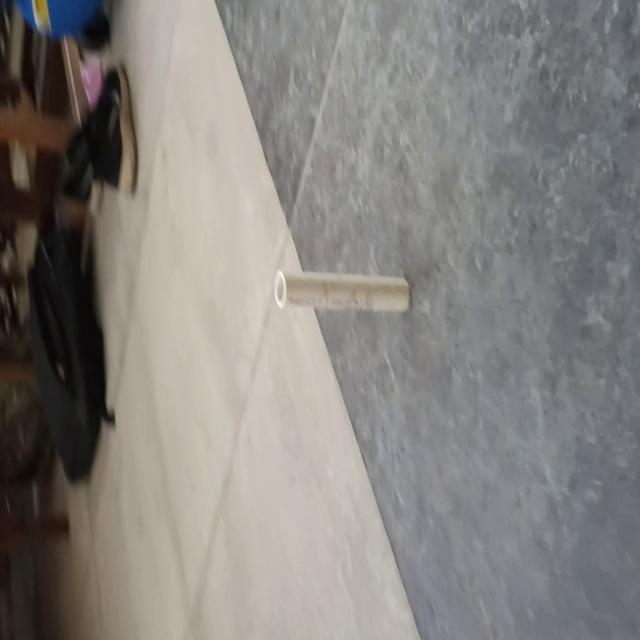Cube: (273, 266, 412, 318)
